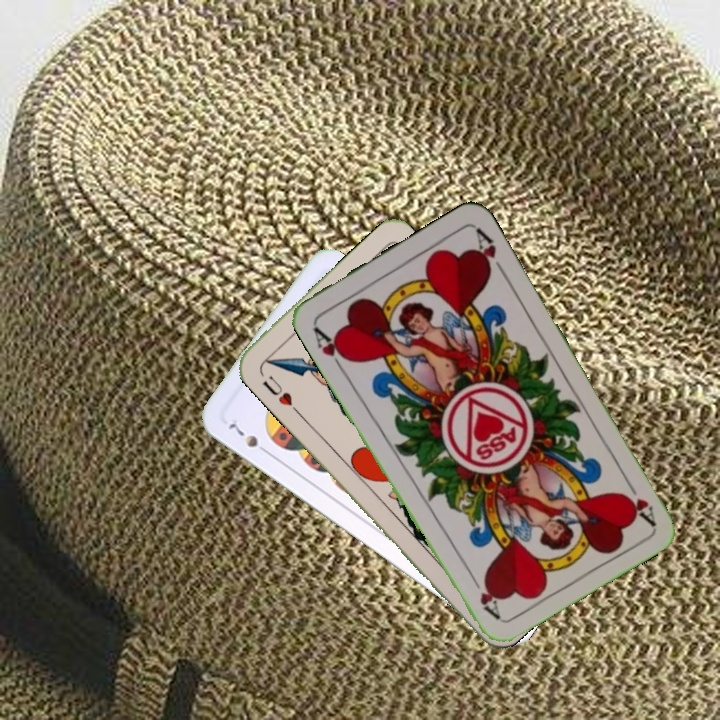HA: (309, 322, 353, 374), (617, 473, 658, 528)
HU: (258, 372, 295, 409)
S7: (225, 419, 273, 458)
